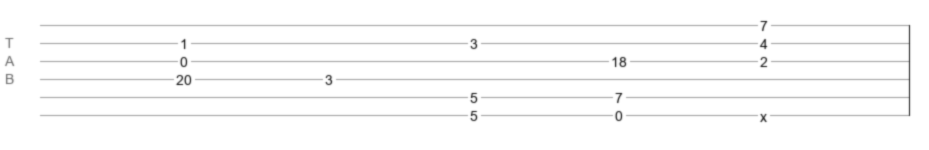0: (180, 54, 188, 64), (615, 108, 623, 118)
1: (180, 36, 188, 46)
18: (611, 54, 627, 64)
2: (760, 54, 768, 64)
20: (176, 72, 192, 82)
3: (325, 72, 333, 82), (470, 36, 478, 46)
4: (760, 36, 768, 46)
5: (470, 90, 478, 100), (470, 108, 478, 118)
7: (615, 90, 623, 100), (760, 18, 768, 28)
x: (760, 109, 767, 117)
